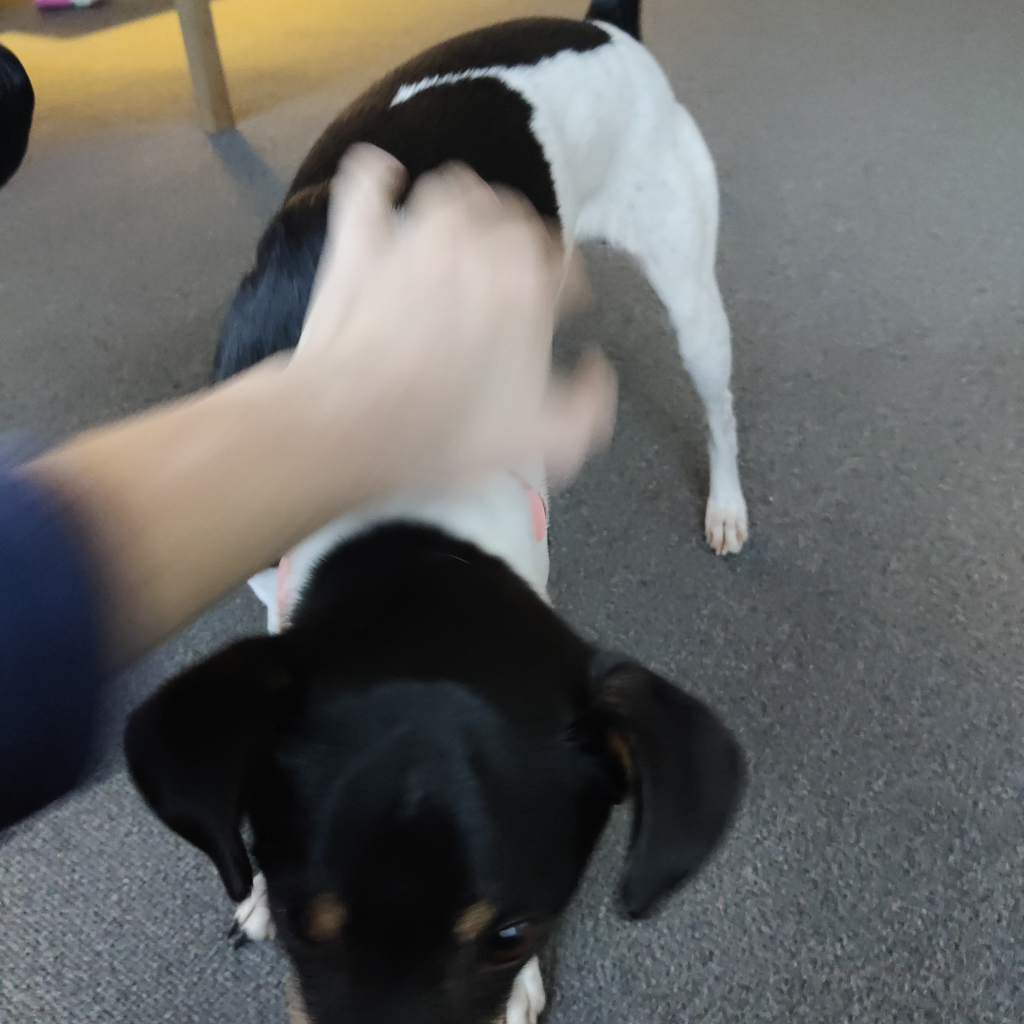Dog: (100, 0, 782, 1024)
Humanoid: (0, 137, 635, 875)
